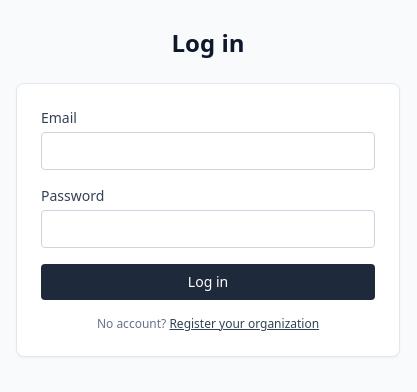
Scenario: LoginPage › failed login shows the server error
This screenshot has width=417, height=392.
In the field labelled "Email": (208, 151) [41,132,375,170], type "admin@example.com"
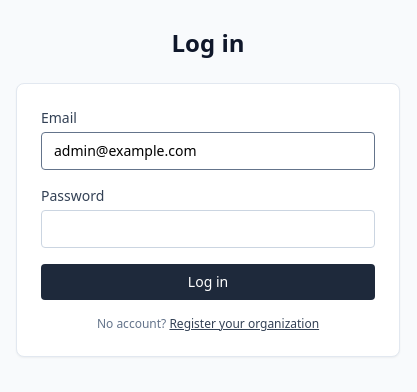
In the password field labelled "Password": (208, 229) [41,210,375,248], type "longenough"
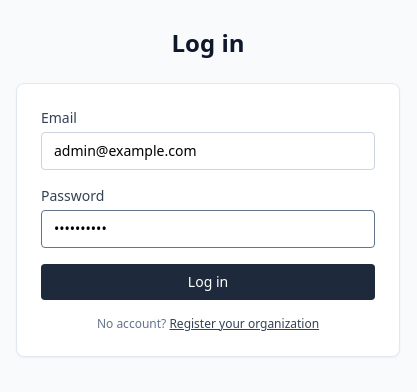
Click the button with test id "login-submit": (208, 282) [41,264,375,300]
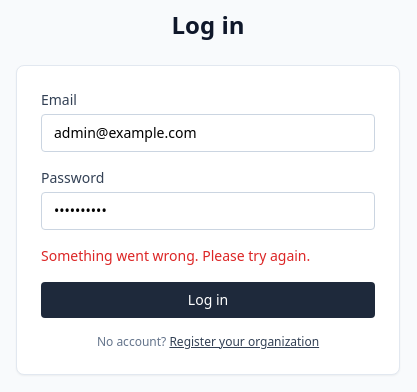
Expected: the message with test id "login-error" shows "Something went wrong", [41,246,310,265]
